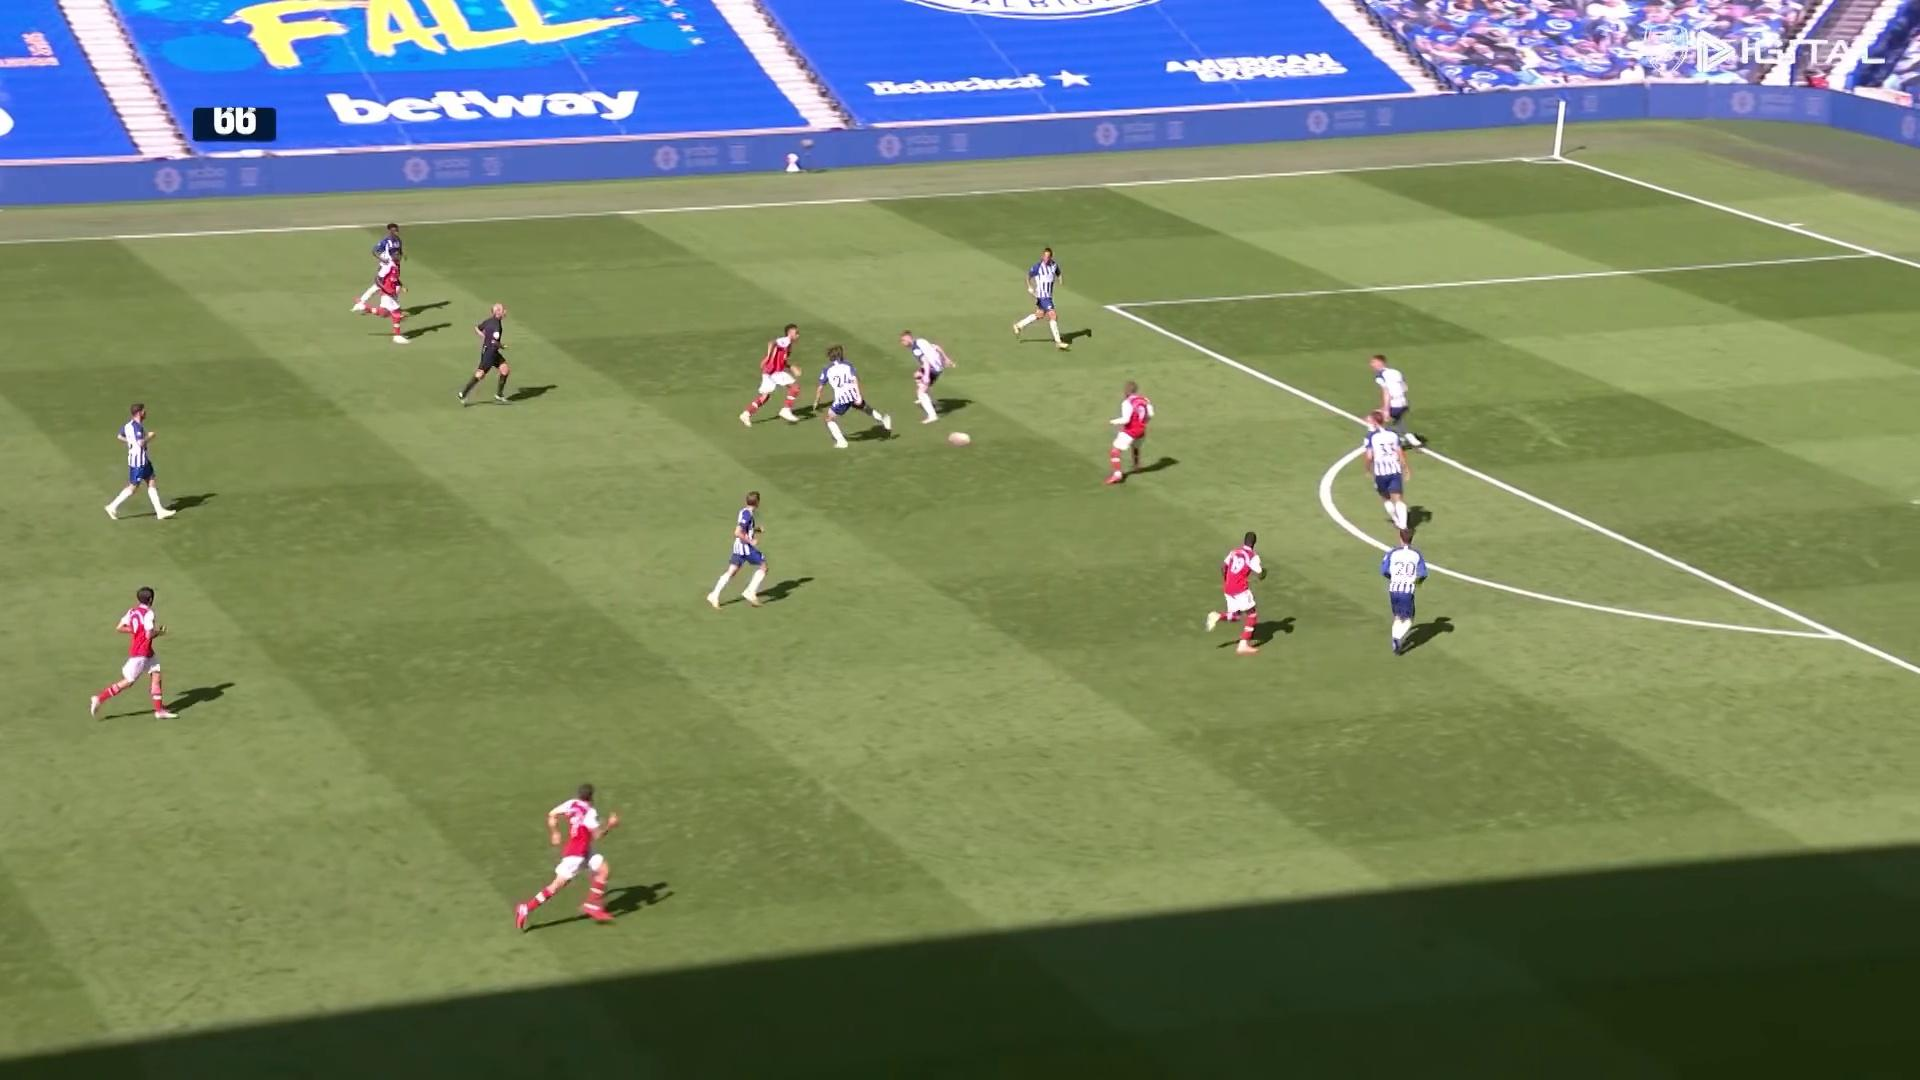ball: (948, 427, 973, 452), (786, 150, 801, 165)
player: (502, 779, 623, 932), (88, 584, 178, 725), (103, 400, 180, 528), (810, 345, 894, 452), (706, 491, 776, 618), (1203, 529, 1272, 655), (736, 321, 808, 433), (1365, 406, 1423, 540), (1379, 522, 1433, 663), (1009, 246, 1074, 352), (351, 242, 417, 346), (349, 218, 410, 323), (897, 328, 959, 431), (1366, 352, 1425, 459), (1105, 377, 1159, 491)
referee: (457, 298, 523, 411)
